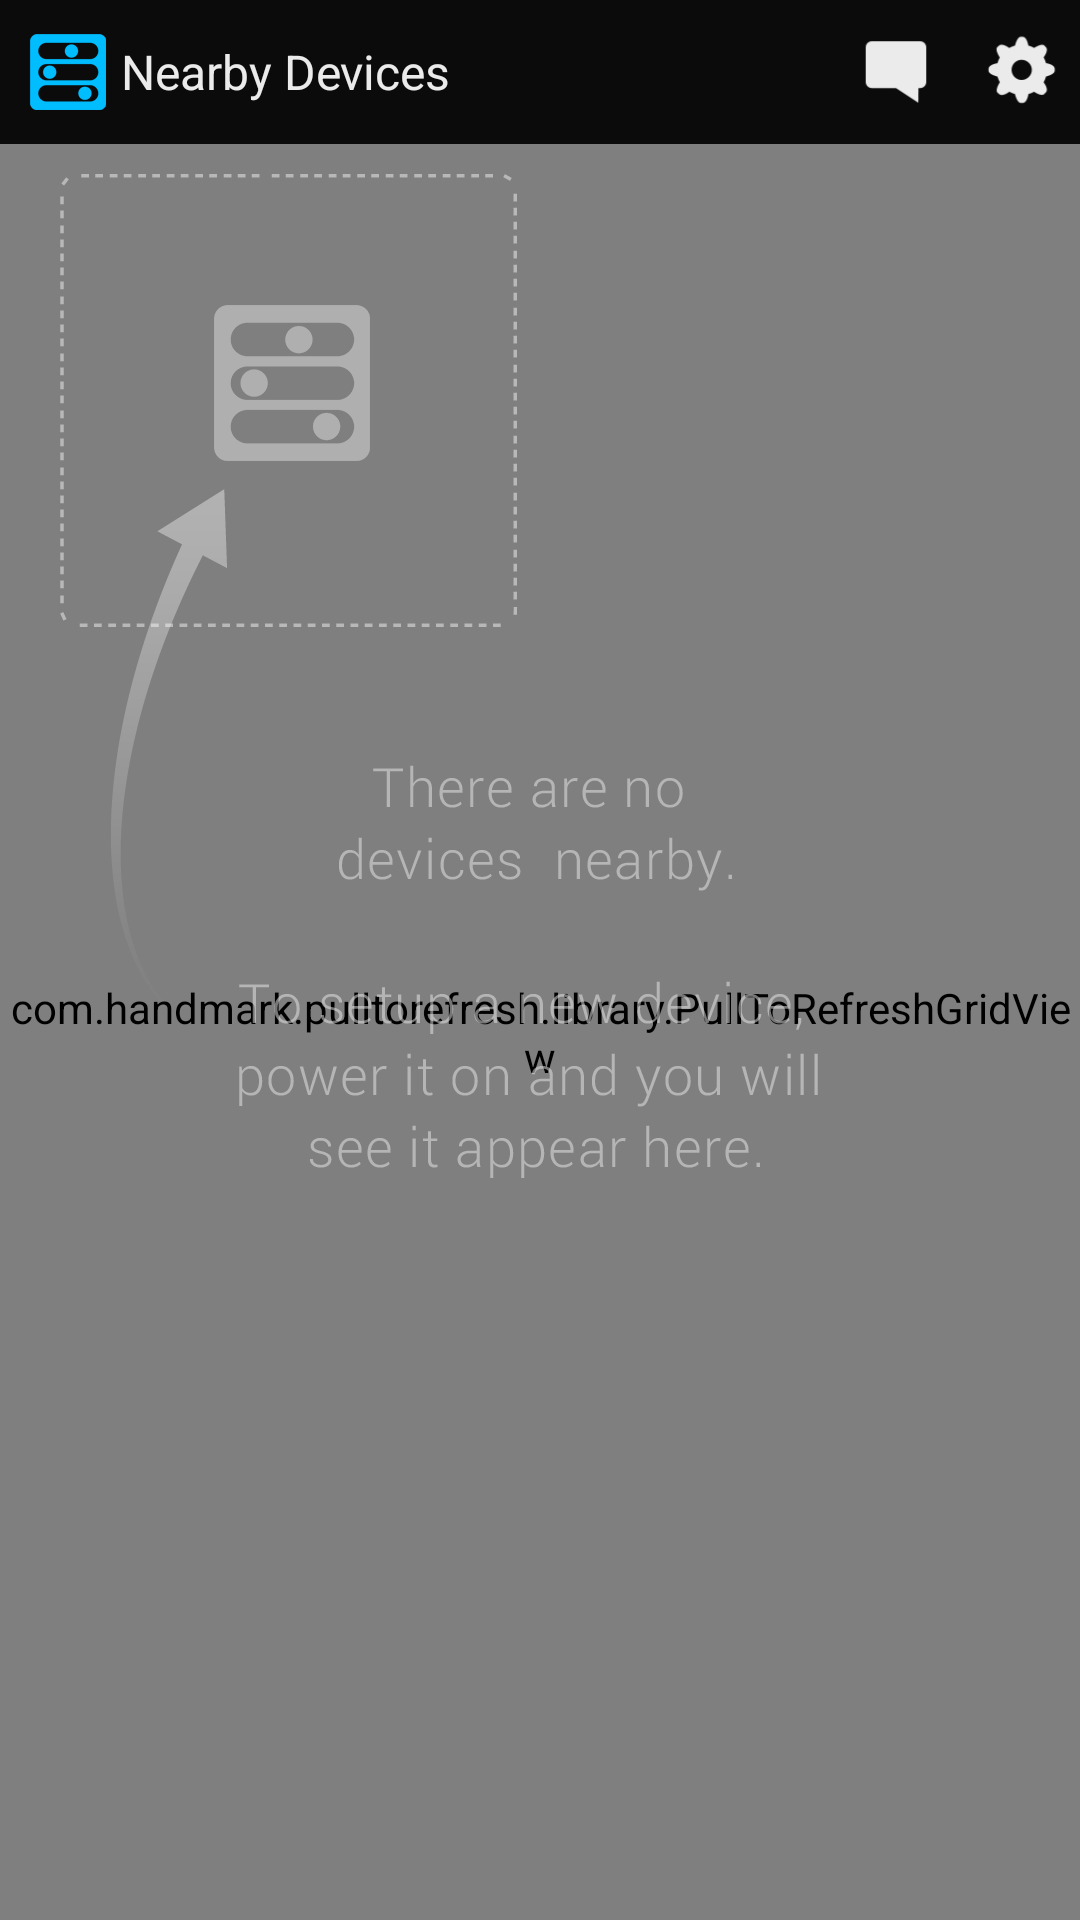

Screen size 1080 × 1920. Icon name, then its box in pixels as (x1, y1, x2, y2):
screen settings: (988, 36, 1055, 104)
